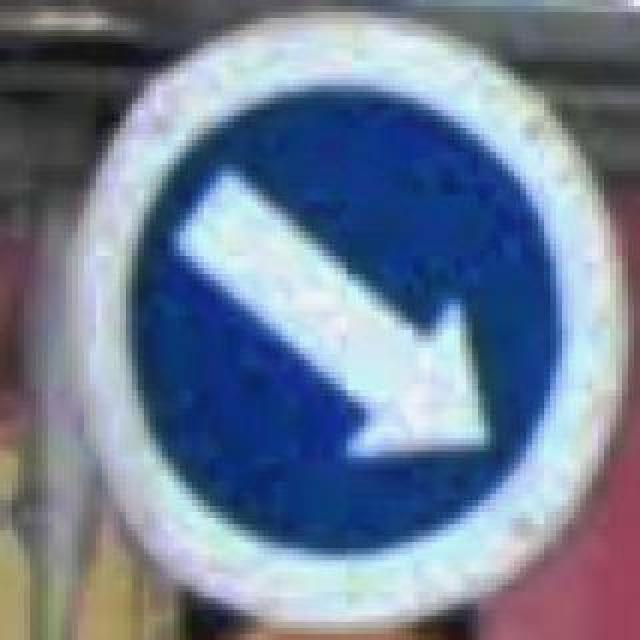keep right: (66, 6, 622, 634)
